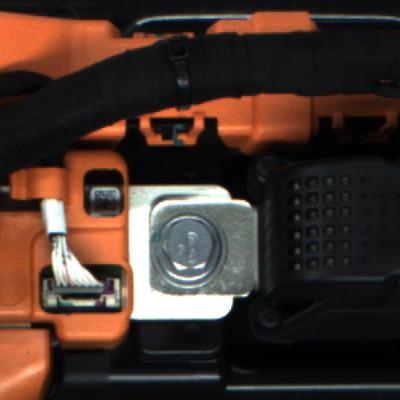nut_b: (145, 211, 231, 292)
